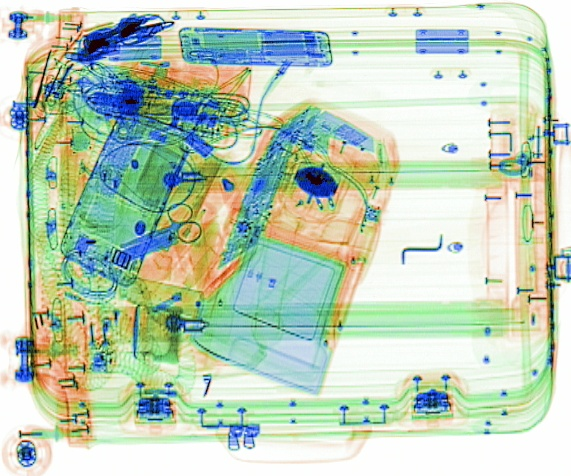scissors: (117, 201, 202, 248)
